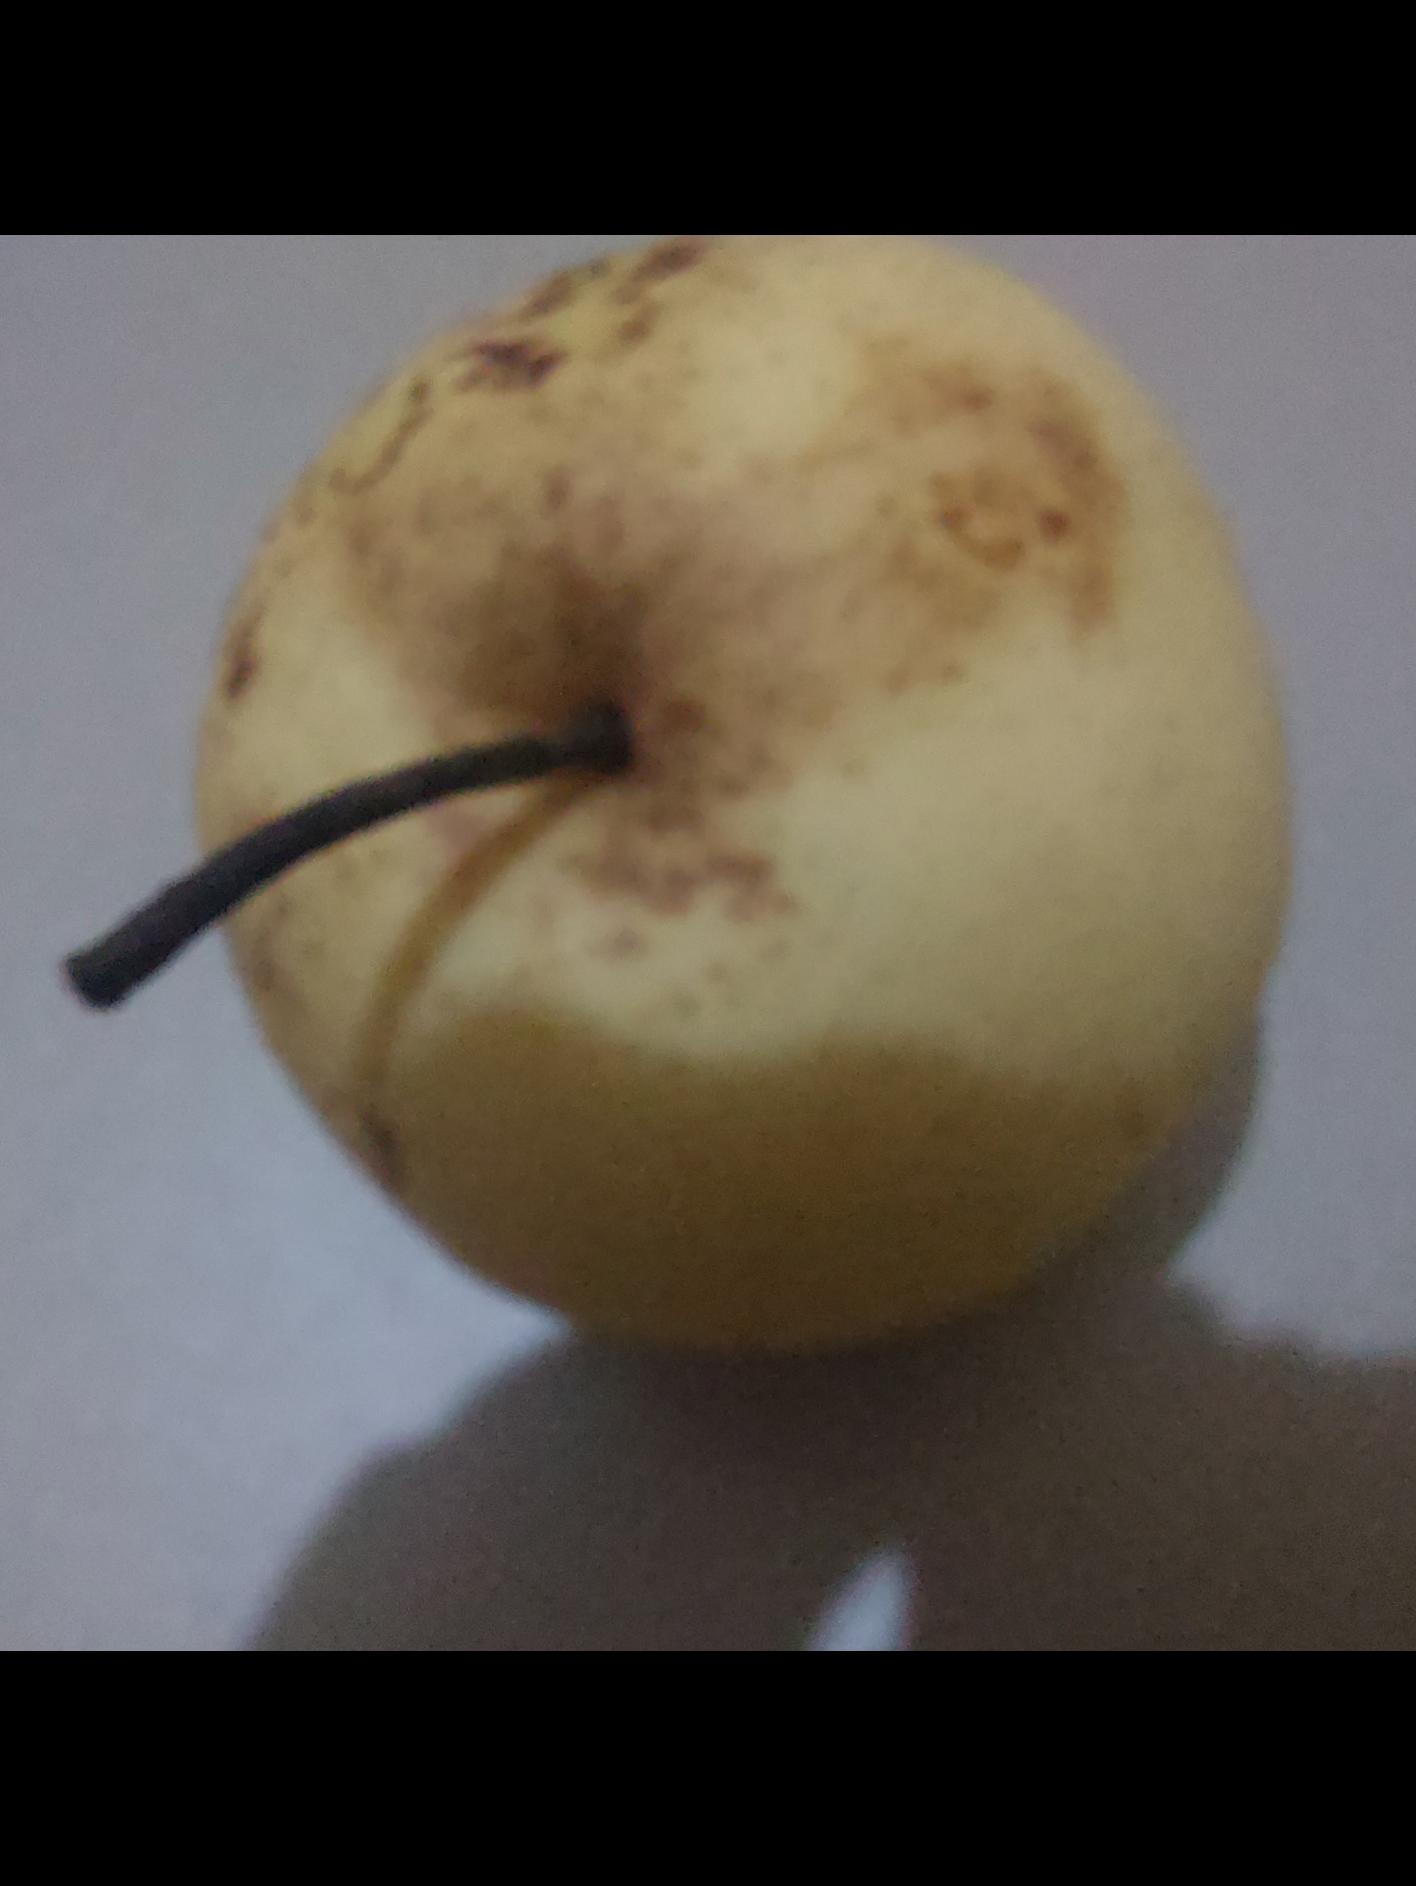Bad Pear: (207, 235, 1294, 1301)
